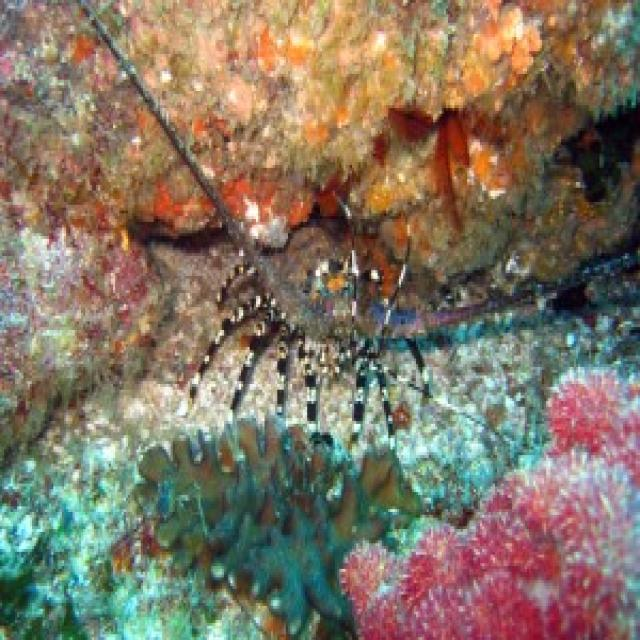lobsters: (61, 111, 524, 505)
